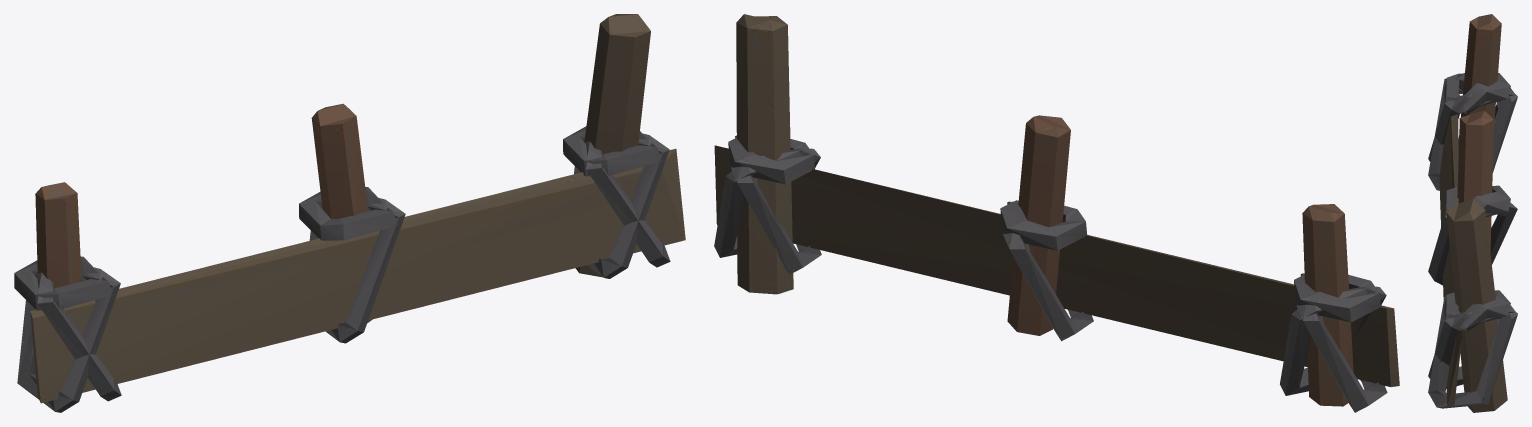
File: fence_veg_b.glb
3 views of the same model, side by side, from view 1: azimuth 30°, elevation 25°; view 2: azimuth 150°, elevation 25°; view 3: azimuth 270°, elevation 25° (orthographic). The views are drawn at different scales.
Parts seen in each view (by area): view 1: fence_veg_b; view 2: fence_veg_b; view 3: fence_veg_b.
Boxes of the visible parts, box(x1,y1,x2,y2) form: fence_veg_b: box(14, 14, 685, 412); fence_veg_b: box(714, 14, 1399, 412); fence_veg_b: box(1428, 14, 1517, 412).
Size of the model in its own units: 1.2 by 0.45 by 0.1763.
1 material, 1 textured.
